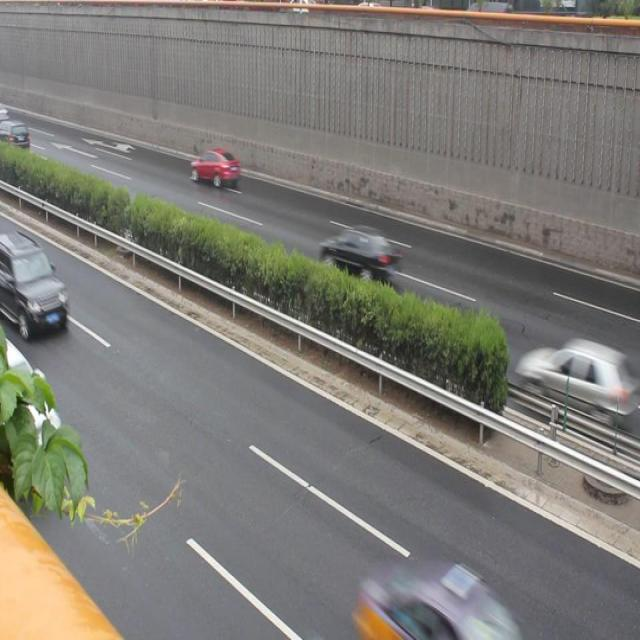car: (353, 547, 529, 640), (522, 332, 640, 431), (0, 338, 60, 490), (1, 229, 68, 338), (314, 216, 398, 290), (187, 147, 244, 194)
